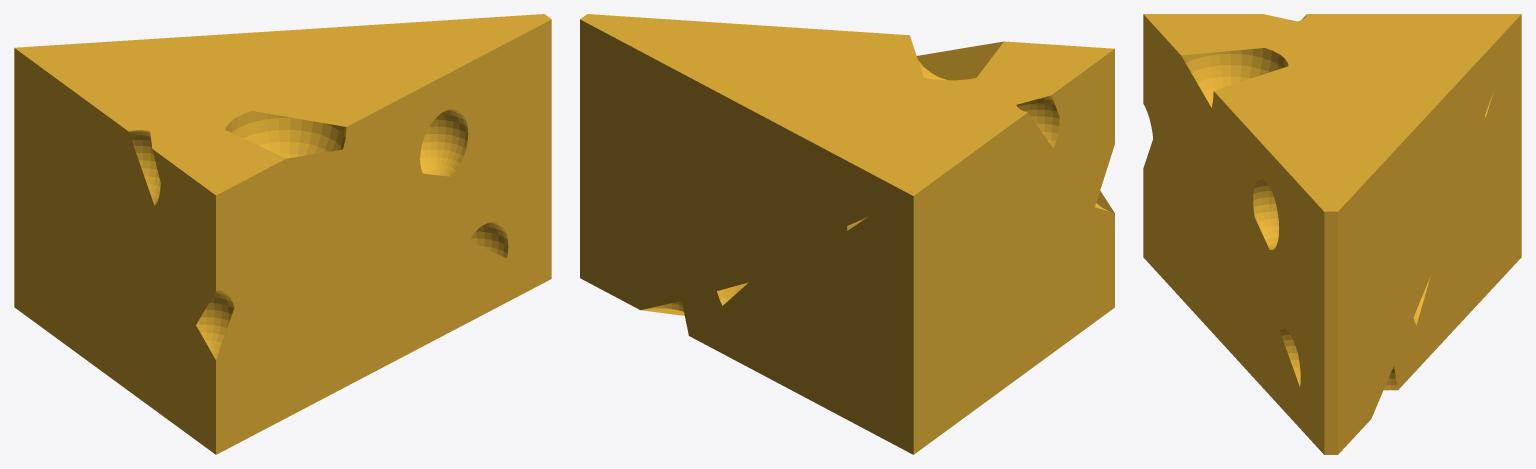
Rendered from チーズやり直し.fbx.
The picture shows the model from 3 angles, left to right: view 1: azimuth 30°, elevation 25°; view 2: azimuth 150°, elevation 25°; view 3: azimuth 270°, elevation 25°; orthographic projection. The views are drawn at different scales.
Visible parts, largest first — view 1: Cube; view 2: Cube; view 3: Cube.
Part boxes in pixels (<box>): Cube: <box>14,14,551,454</box>; Cube: <box>580,14,1114,454</box>; Cube: <box>1143,14,1521,454</box>.
Bounding box in the file's own units: 200 × 115 × 162.
